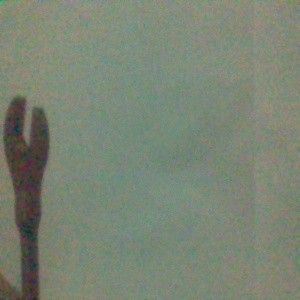spanner: (2, 95, 51, 300)
